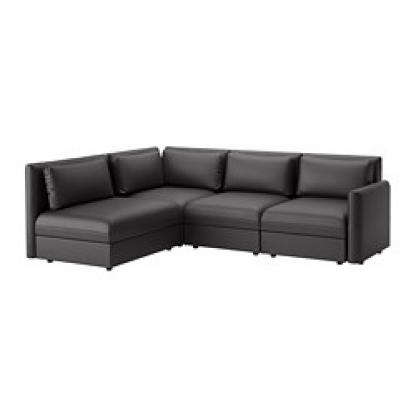Sofa: (17, 116, 391, 300)
